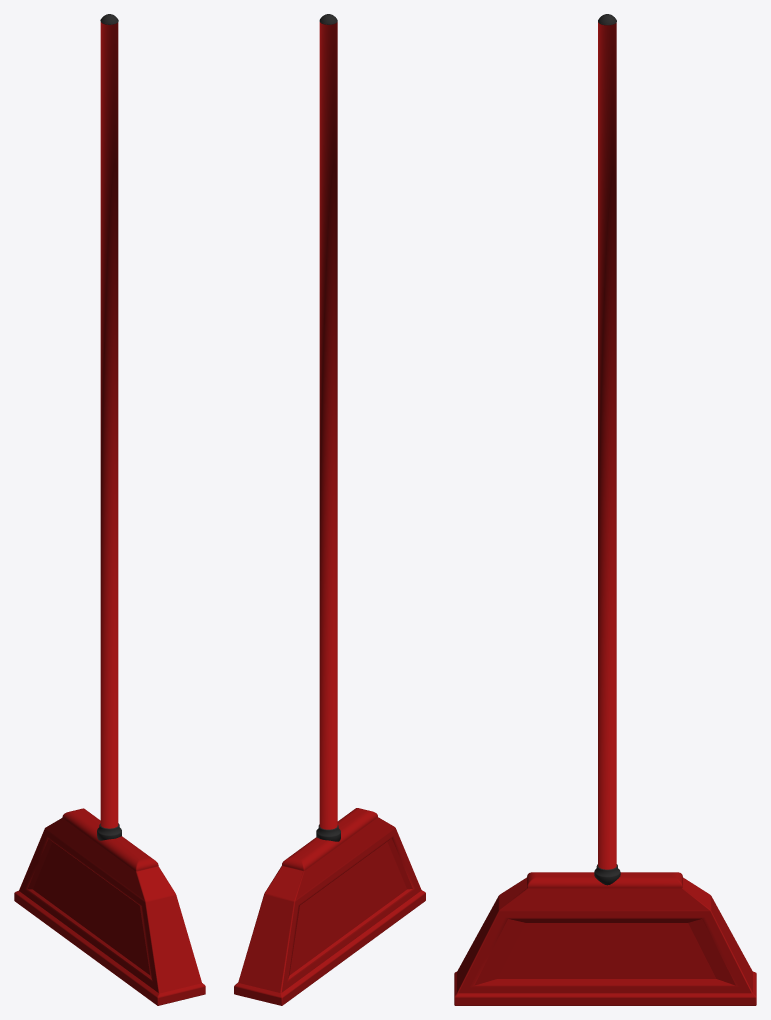
The model's file is broom.fbx.
3 views of the same model, side by side, from view 1: azimuth 30°, elevation 25°; view 2: azimuth 150°, elevation 25°; view 3: azimuth 270°, elevation 25° (orthographic). The views are drawn at different scales.
Parts seen in each view (by area): view 1: broom; view 2: broom; view 3: broom.
Boxes of the visible parts, box(x1,y1,x2,y2) form: broom: box(14, 14, 205, 1005); broom: box(234, 14, 425, 1005); broom: box(454, 14, 756, 1005).
Bounding box in the file's own units: 57.48 × 1058 × 296.
